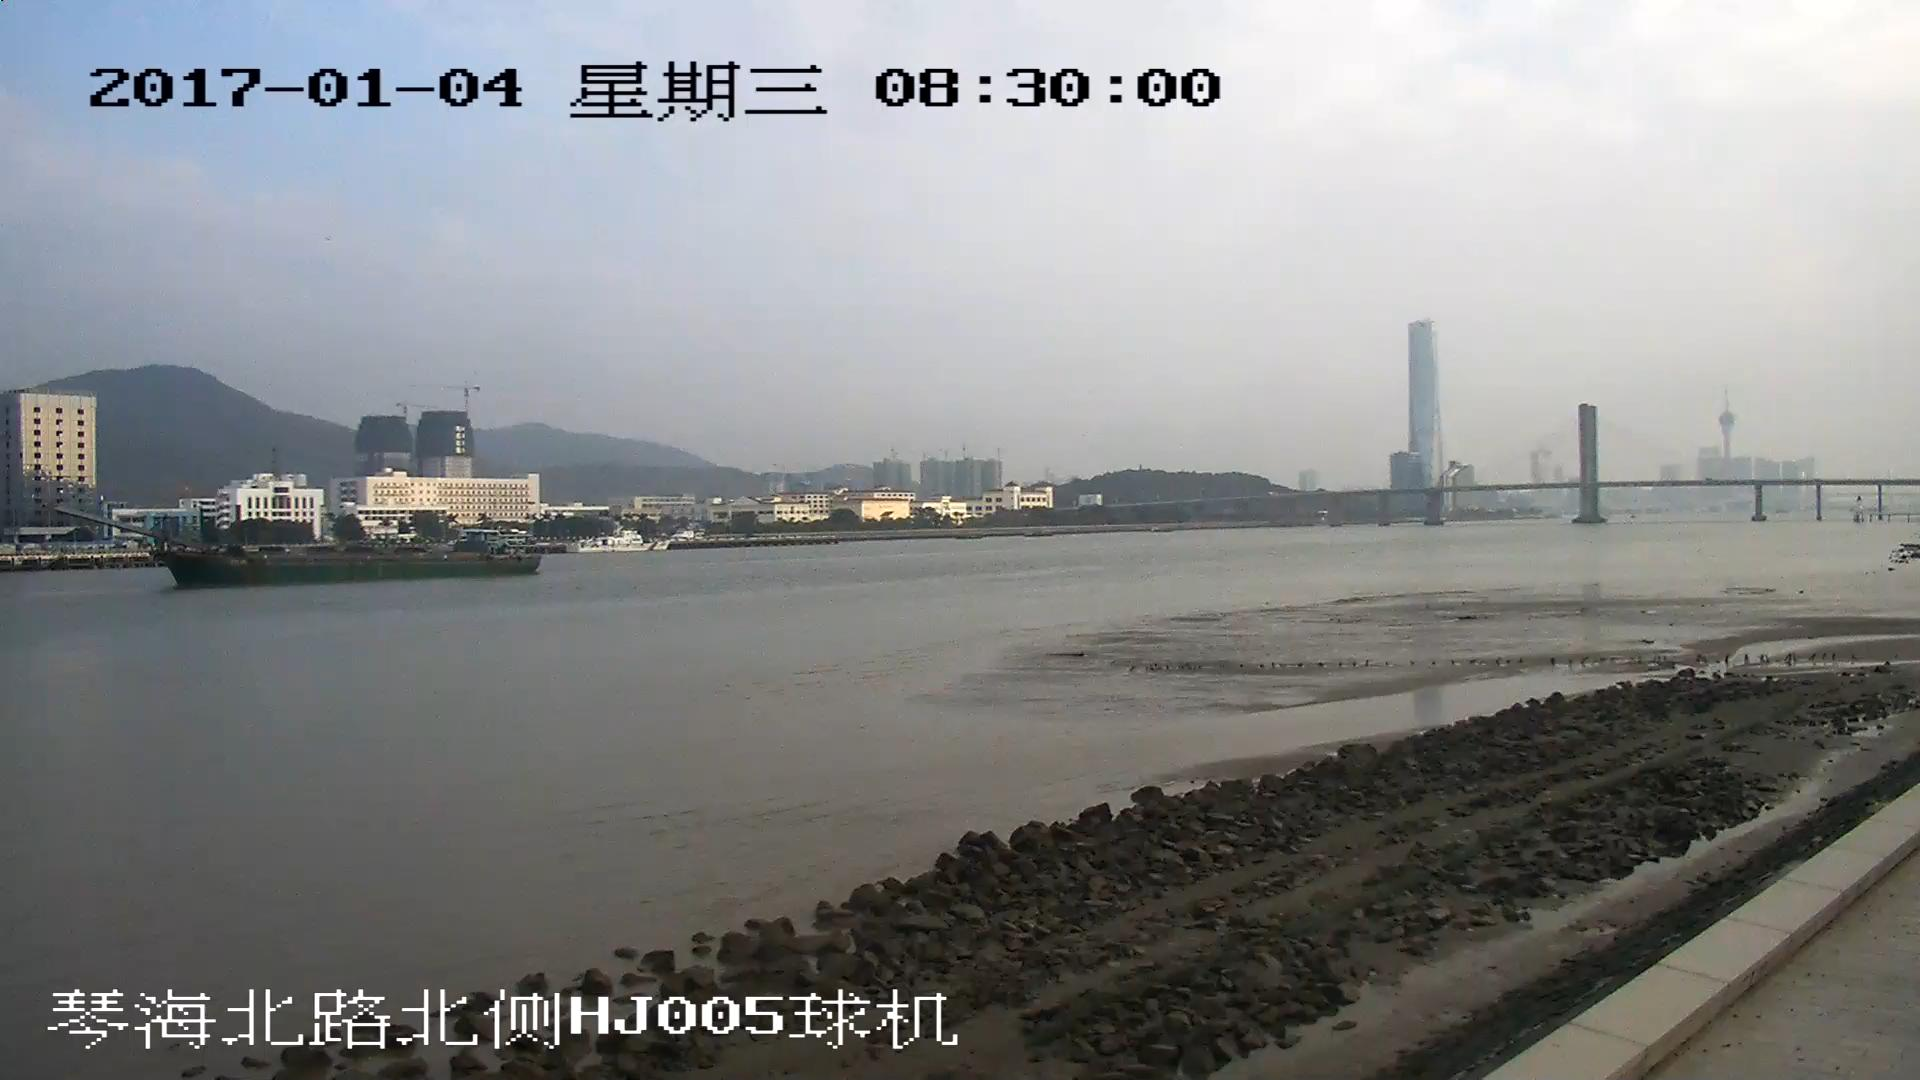bulk cargo carrier: (56, 508, 541, 572)
